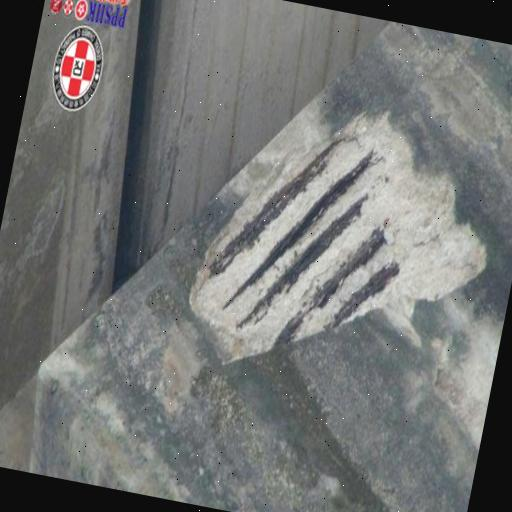spalling: (188, 112, 487, 361)
